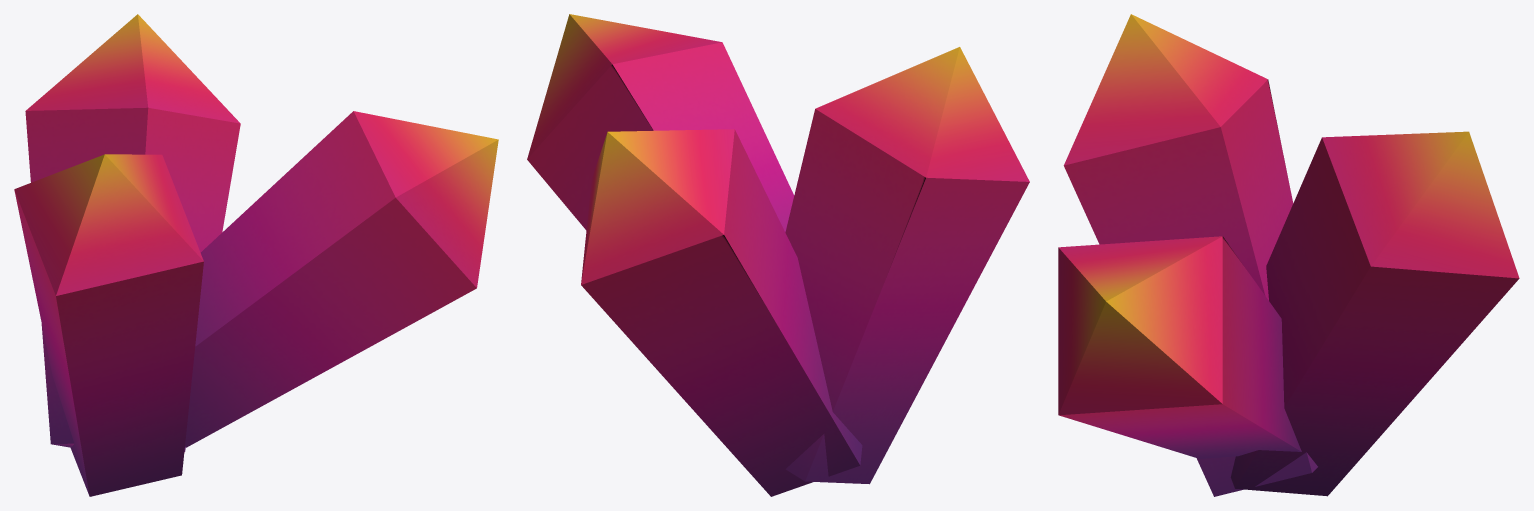
File: CrystalTriple.fbx
The picture shows the model from 3 angles, left to right: view 1: azimuth 30°, elevation 25°; view 2: azimuth 150°, elevation 25°; view 3: azimuth 270°, elevation 25°; orthographic projection. The views are drawn at different scales.
Visible parts, largest first — view 1: CrystalTriple3, CrystalTriple, CrystalTriple2; view 2: CrystalTriple, CrystalTriple2, CrystalTriple3; view 3: CrystalTriple2, CrystalTriple3, CrystalTriple.
Boxes of the visible parts, x1,y1,x2,y2 form: CrystalTriple3: (185,111,498,447); CrystalTriple: (14,154,203,496); CrystalTriple2: (25,14,240,452); CrystalTriple: (785,47,1029,484); CrystalTriple2: (581,129,862,496); CrystalTriple3: (527,14,794,232); CrystalTriple2: (1230,131,1519,496); CrystalTriple3: (1058,236,1301,458); CrystalTriple: (1063,14,1317,496).
Bounding box in the file's own units: 3.31 × 2.78 × 2.68.
